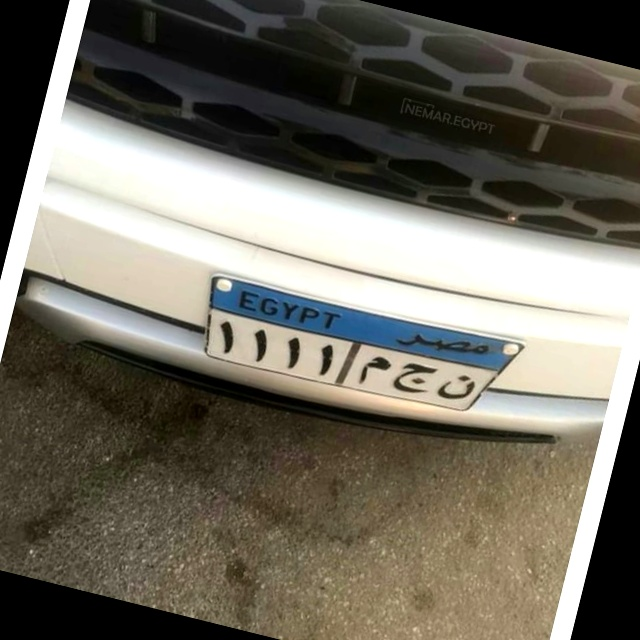License Plate: (187, 261, 530, 437)
